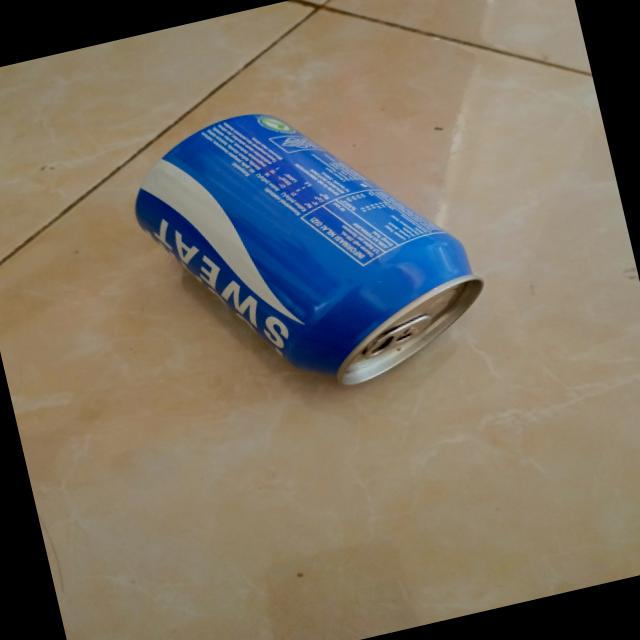pocari-sweat: (114, 68, 502, 426)
